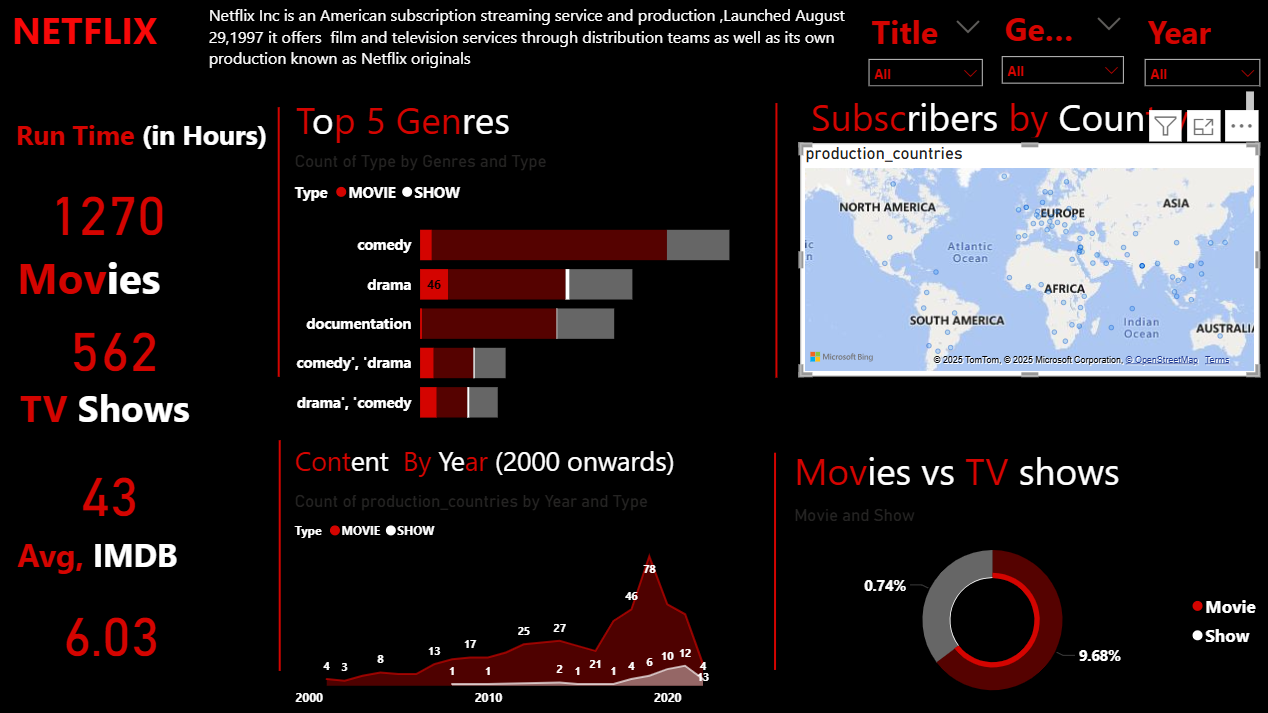

The page's visual inventory and layout, read from the dashboard file:
{"tool":"powerbi","page":{"name":"Page 1","canvas":[1280,720],"ordinal":0},"visuals":[{"type":"textbox","box":[9.6,0,197.6,64.5],"z":0},{"type":"textbox","box":[207.4,0,679.8,90.8],"z":1000},{"type":"card","fields":{"Values":["Sum(titles.Run Time in Hrs)"]},"box":[1.4,177,219.6,68.6],"z":2000},{"type":"textbox","box":[13.7,112.5,281.3,64.5],"z":3000},{"type":"card","fields":{"Values":["titles.Movie Count"]},"box":[15.1,317,203.1,63.1],"z":4000},{"type":"textbox","box":[17.8,380.1,190.7,75.5],"z":5000},{"type":"card","fields":{"Values":["titles.TV Shows"]},"box":[16.5,455.6,193.5,75.5],"z":6000},{"type":"card","fields":{"Values":["titles.Avg.IMDB Score"]},"box":[13.7,594.2,201.7,81],"z":7000},{"type":"textbox","box":[15.1,531,192.1,63.1],"z":8000},{"type":"textbox","box":[15.1,245.6,231.9,71.4],"z":9000},{"type":"barChart","fields":{"Category":["titles.genres"],"Series":["titles.type"],"Y":["CountNonNull(titles.type)"]},"box":[294.5,153.4,501.8,289.6],"z":10000},{"type":"slicer","fields":{"Values":["titles.Title"]},"box":[866.3,4.9,135,85.9],"z":11000},{"type":"slicer","fields":{"Values":["titles.Genres"]},"box":[1000.3,2.7,142.7,89.2],"z":12000},{"type":"slicer","fields":{"Values":["titles.Year"]},"box":[1143.6,4.9,136.2,85.9],"z":13000},{"type":"textbox","box":[813.5,88.3,455.2,56.4],"z":15000},{"type":"textbox","box":[295.7,90.8,236.8,62.6],"z":16000},{"type":"donutChart","fields":{"Y":["titles.Movie Count","titles.TV Shows"]},"box":[796.3,509.2,483.4,211],"z":17000},{"type":"textbox","box":[795.9,443.2,382.8,63.1],"z":18000},{"type":"lineChart","fields":{"Series":["titles.Type"],"Category":["titles.Year"],"Y":["CountNonNull(titles.production_countries)"]},"box":[295,495.4,488.5,225],"z":19000},{"type":"textbox","box":[295,440.5,421.3,54.9],"z":20000},{"type":"shape","box":[141.1,109.2,284.7,271.2],"z":21000},{"type":"shape","box":[133.7,442.9,300.6,231.9],"z":22000},{"type":"shape","box":[633.1,104.3,300.6,276.1],"z":23000},{"type":"shape","box":[631.9,456.4,300.6,218.4],"z":24000},{"type":"map","fields":{"Category":["titles.production_countries"]},"box":[807.4,144.8,461.4,234.4],"z":24001}]}

Visuals, with their boxes in screenshot pixels (x1, y1, x2, y2), scaled from the page's 1280x720 canvas onto the 1268x713 screenshot:
textbox: BBox(10, 0, 205, 64)
textbox: BBox(205, 0, 879, 90)
card - Sum(titles.Run Time in Hrs): BBox(1, 175, 219, 243)
textbox: BBox(14, 111, 292, 175)
card - titles.Movie Count: BBox(15, 314, 216, 376)
textbox: BBox(18, 376, 207, 451)
card - titles.TV Shows: BBox(16, 451, 208, 526)
card - titles.Avg.IMDB Score: BBox(14, 588, 213, 669)
textbox: BBox(15, 526, 205, 588)
textbox: BBox(15, 243, 245, 314)
barChart - titles.genres x titles.type: BBox(292, 152, 789, 439)
slicer - titles.Title: BBox(858, 5, 992, 90)
slicer - titles.Genres: BBox(991, 3, 1132, 91)
slicer - titles.Year: BBox(1133, 5, 1267, 90)
textbox: BBox(806, 87, 1257, 143)
textbox: BBox(293, 90, 528, 152)
donutChart - titles.Movie Count x titles.TV Shows: BBox(789, 504, 1267, 712)
textbox: BBox(788, 439, 1168, 501)
lineChart - titles.Type x titles.Year: BBox(292, 491, 776, 712)
textbox: BBox(292, 436, 710, 491)
shape: BBox(140, 108, 422, 377)
shape: BBox(132, 439, 430, 668)
shape: BBox(627, 103, 925, 377)
shape: BBox(626, 452, 924, 668)
map - titles.production_countries: BBox(800, 143, 1257, 376)
